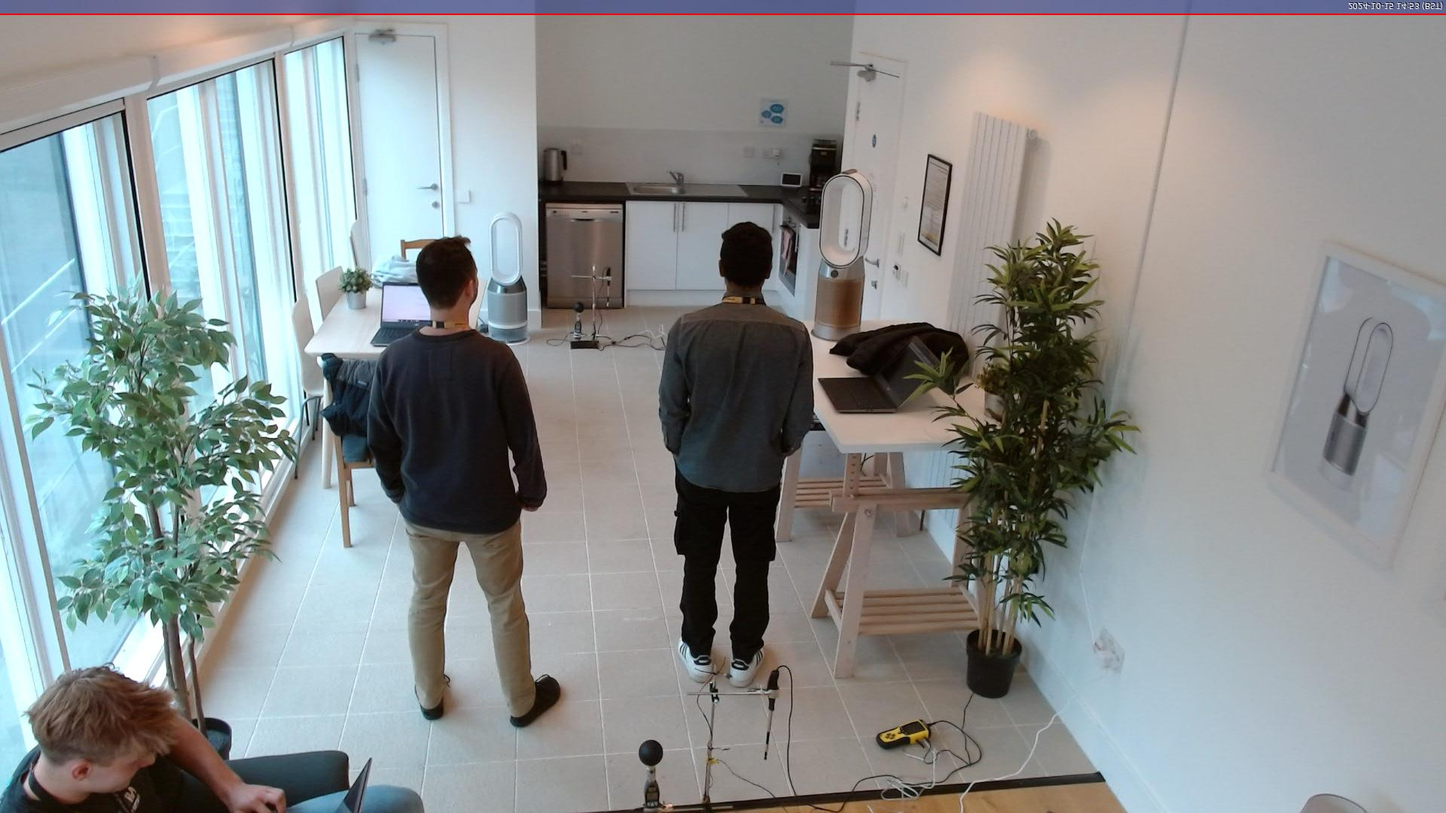long sleeve shirt: (657, 294, 817, 498)
short sleeve shirt: (0, 730, 189, 813)
sweater: (364, 326, 548, 531)
trousers: (403, 517, 542, 716), (671, 460, 778, 657), (276, 780, 429, 813)
